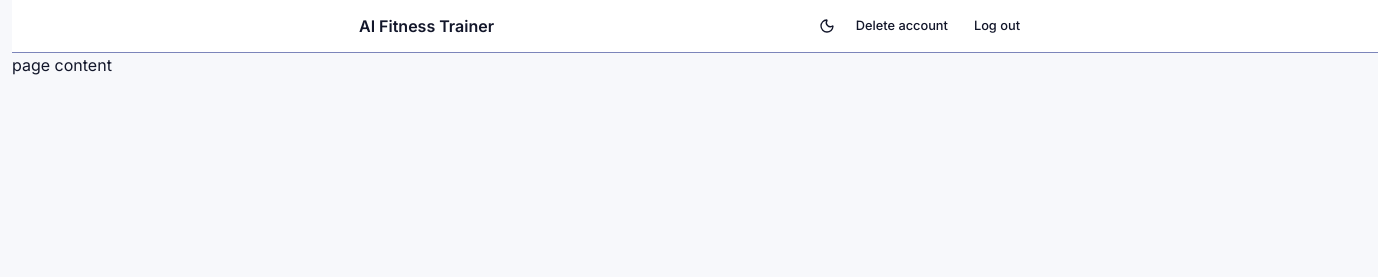
Scenario: AppShell › cancels the confirmation without deleting
The width and height of the screenshot is (1378, 277).
Click the button "Delete account".
click(902, 26)  # box [845,12,959,40]
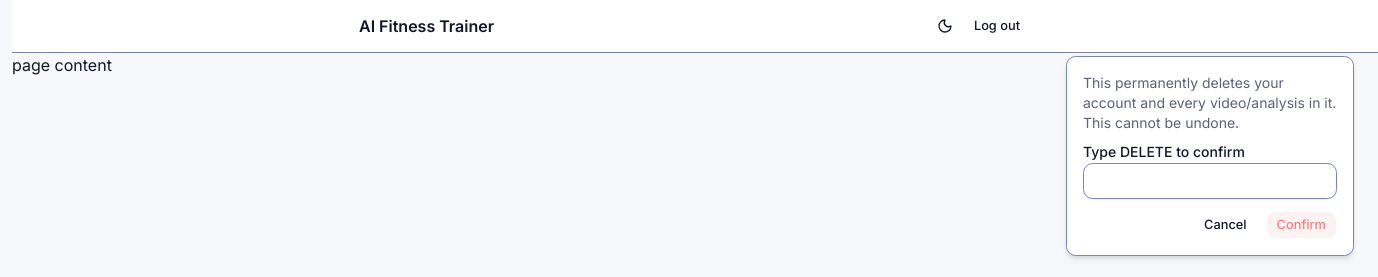
Click the button "Cancel".
click(1225, 225)  # box [1193,211,1258,239]
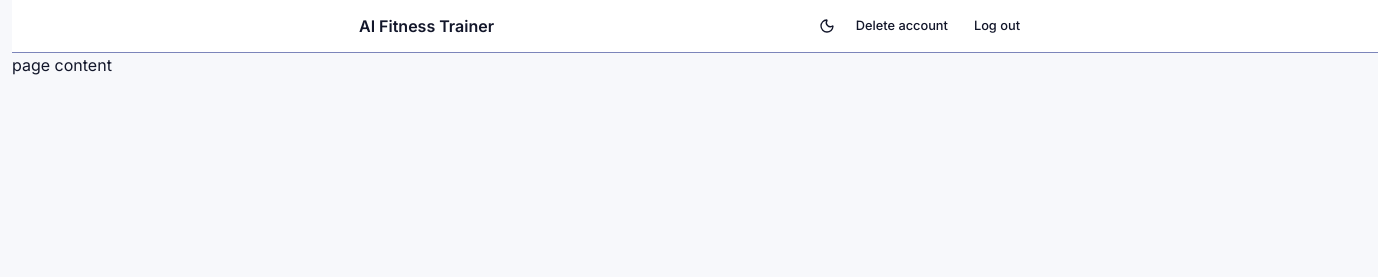
expect the label labelled "Type DELETE to confirm" is gone: met
